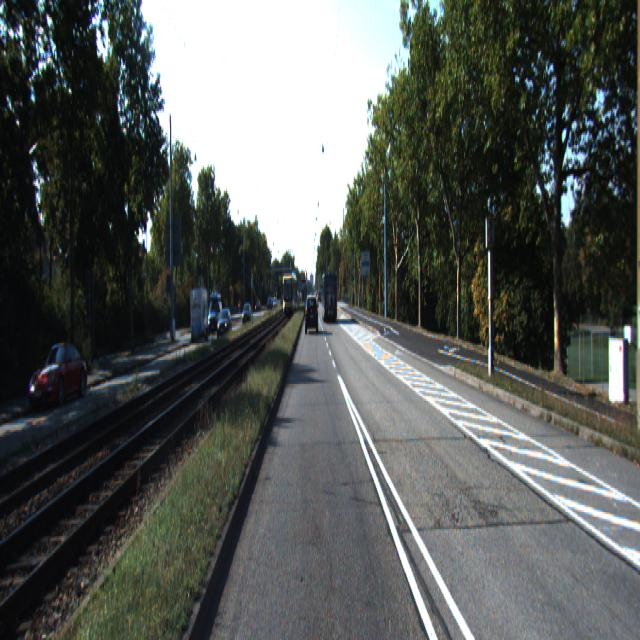Car: (29, 336, 90, 410), (189, 286, 209, 344), (321, 272, 338, 324), (306, 296, 318, 335)
